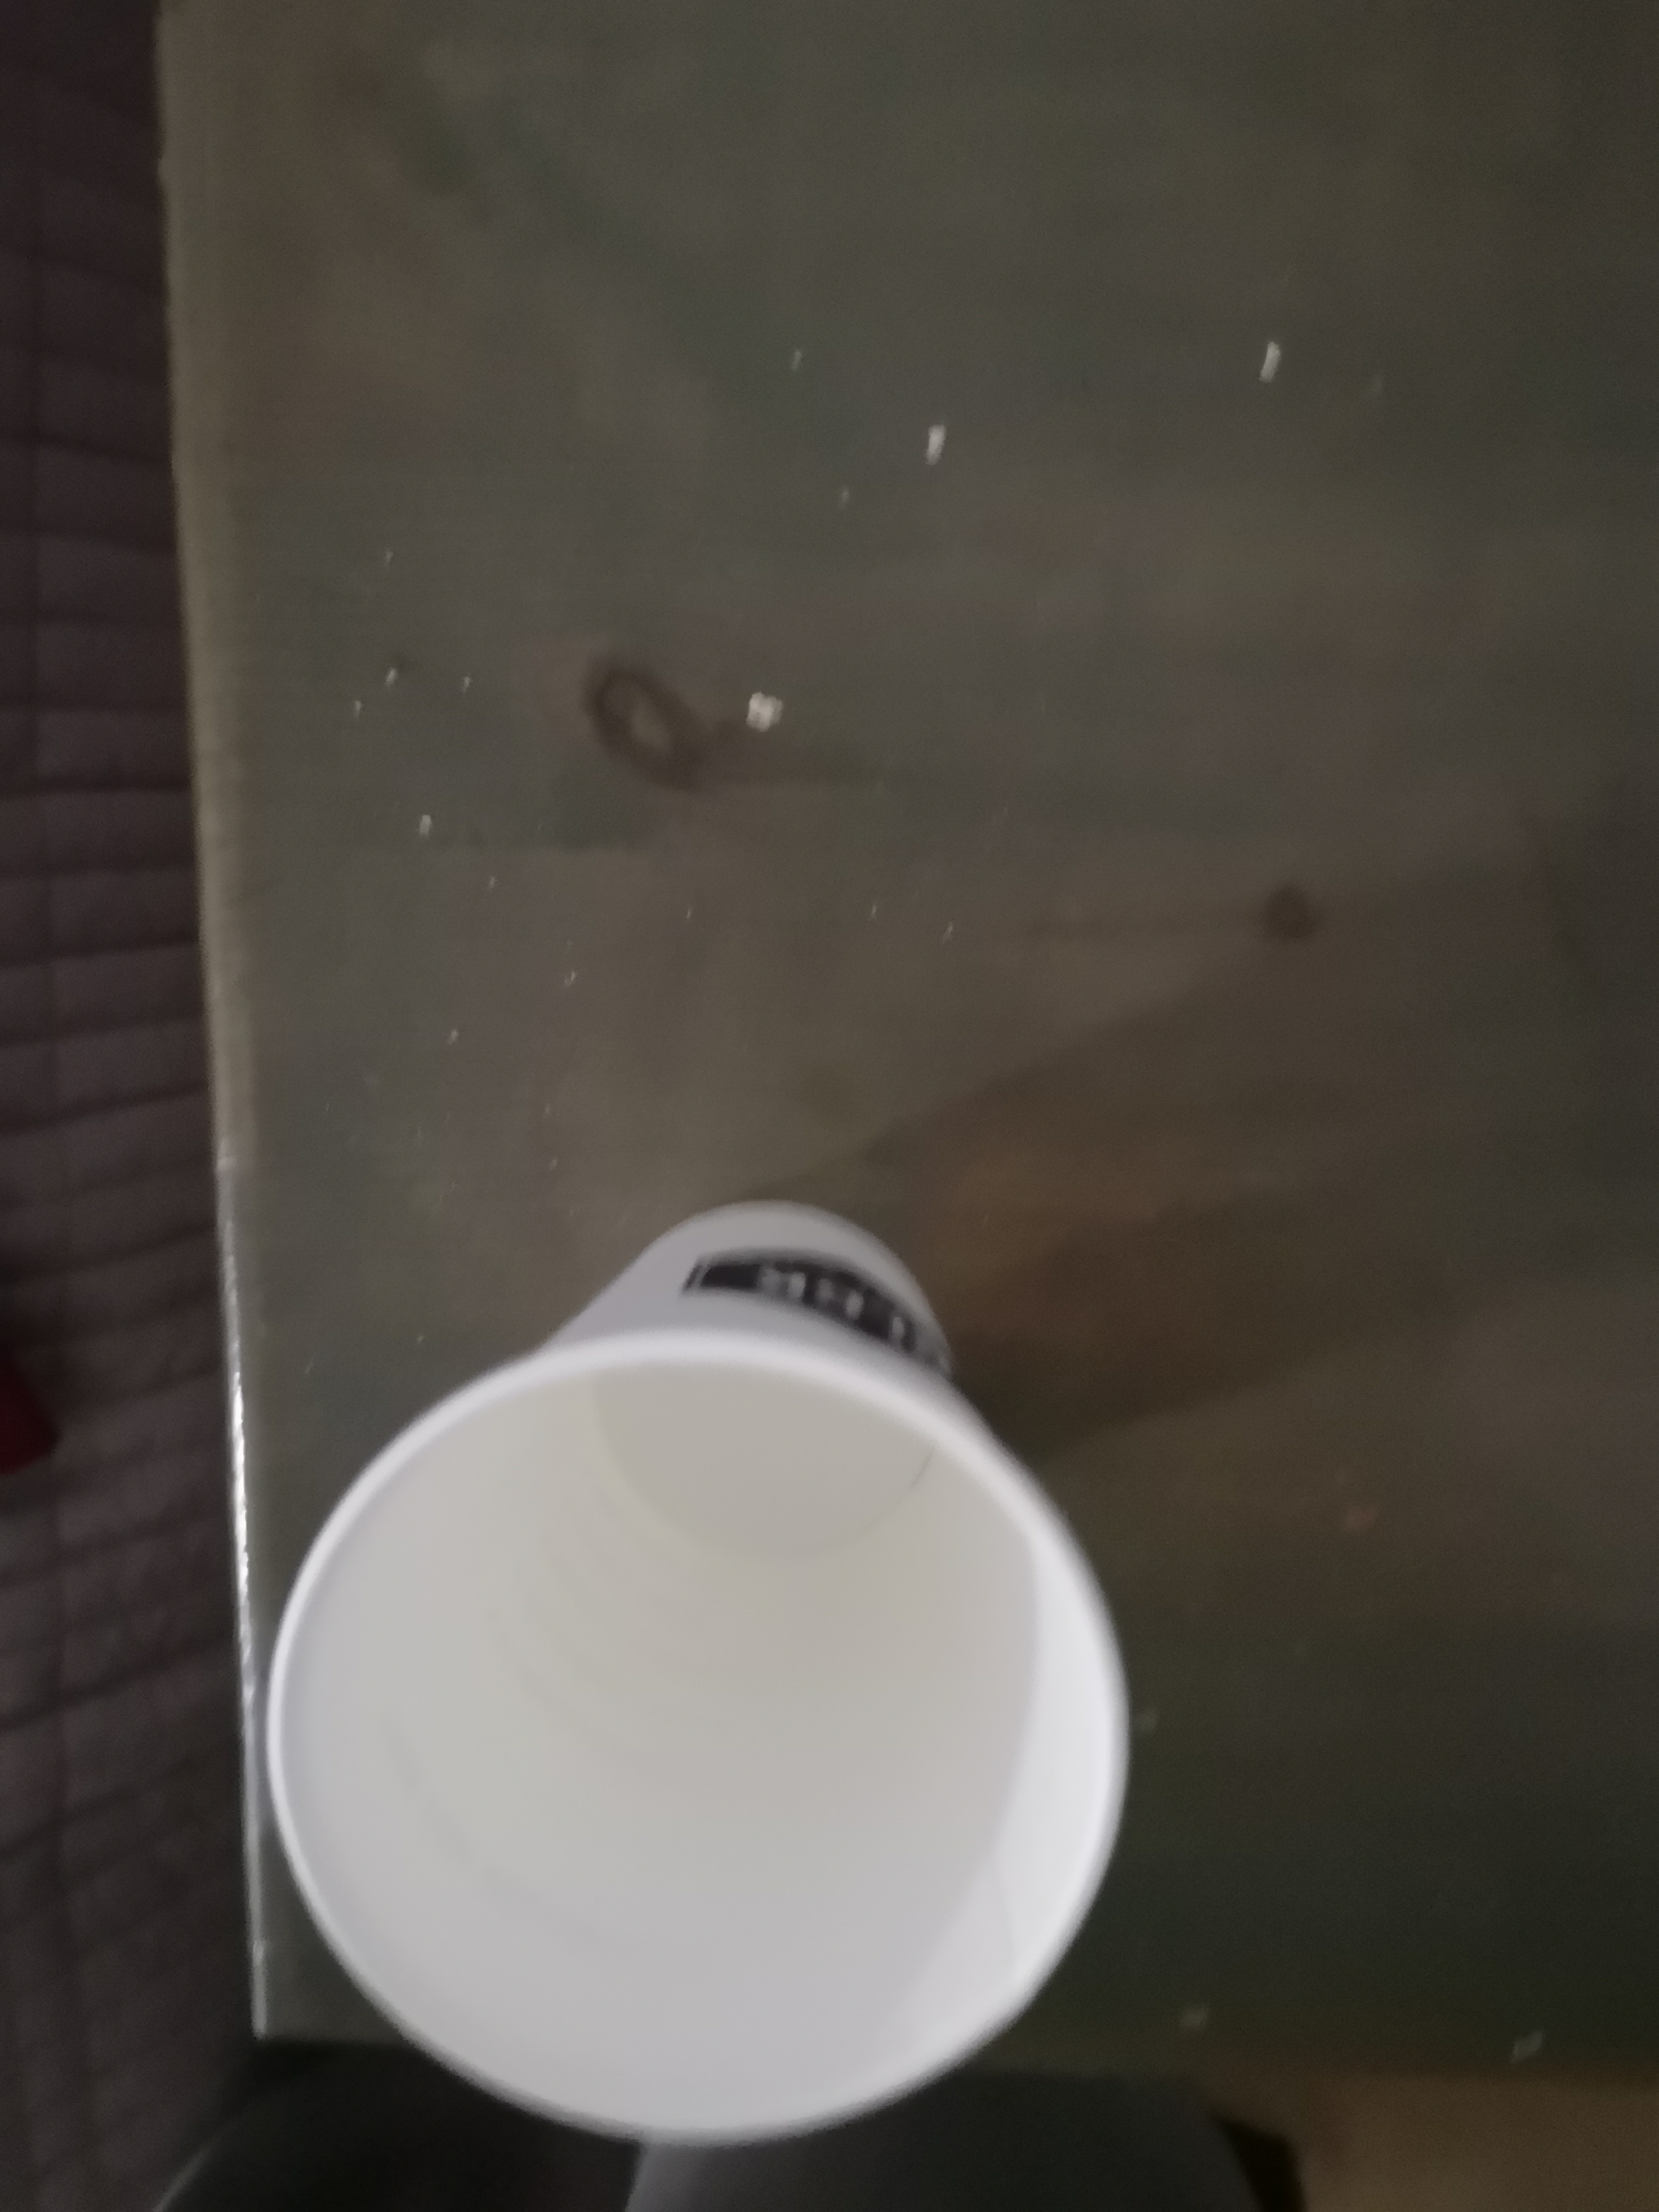cup: (221, 1172, 1211, 2160)
